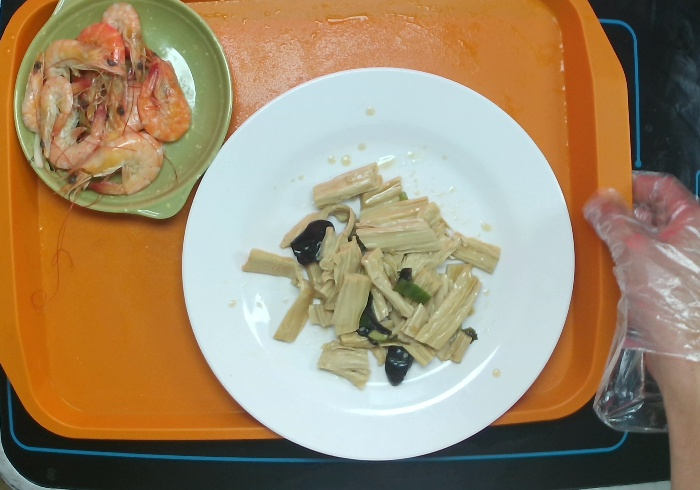NLDX-Da_Yuan_Pan: (180, 65, 575, 461)
NLDX-Lv_Hua_Shuang_Er_Die: (12, 1, 235, 220)
